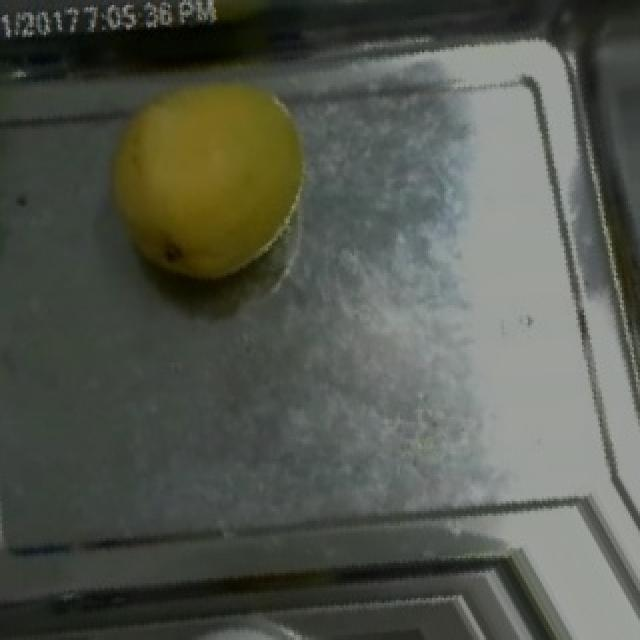fruit: (86, 50, 340, 305)
